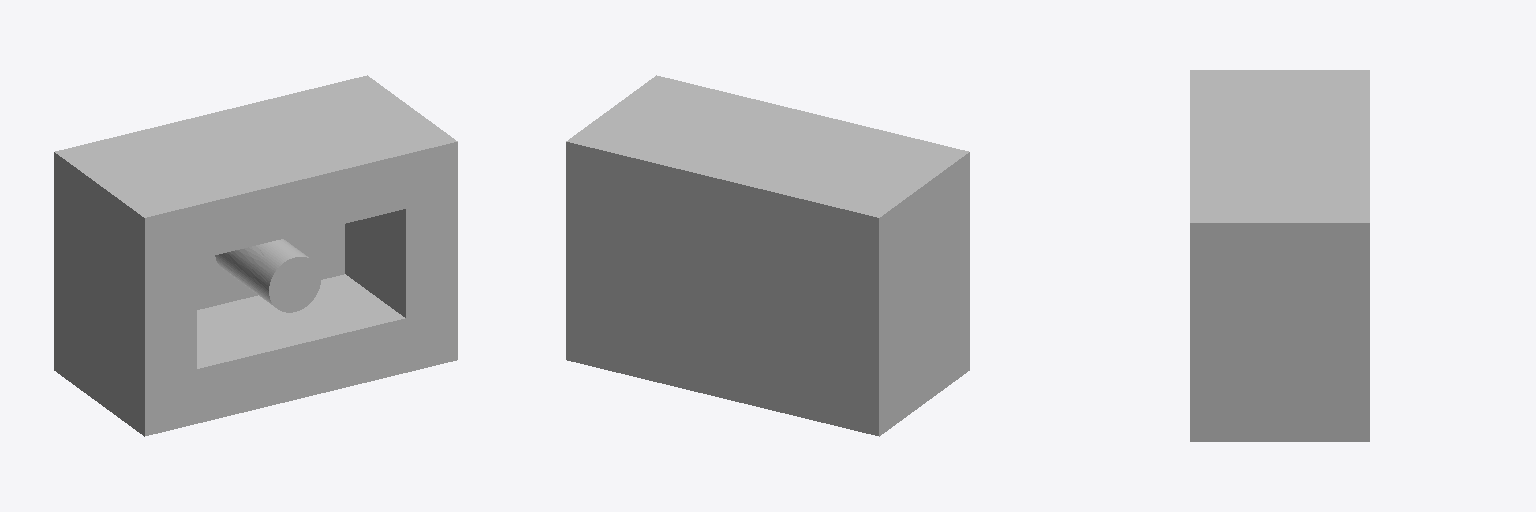
The model's file is tank35.obj.
3 renders of one model, left to right at view 1: azimuth 30°, elevation 25°; view 2: azimuth 150°, elevation 25°; view 3: azimuth 270°, elevation 25°, orthographic.
Size of the model in its own units: 3 by 2 by 1.5.